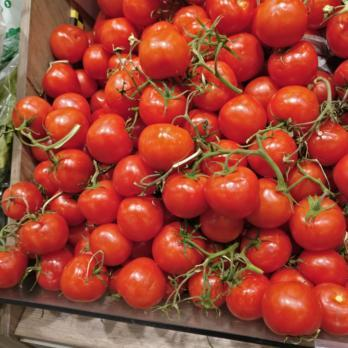Tomato: (96, 0, 348, 303), (13, 93, 109, 301)
